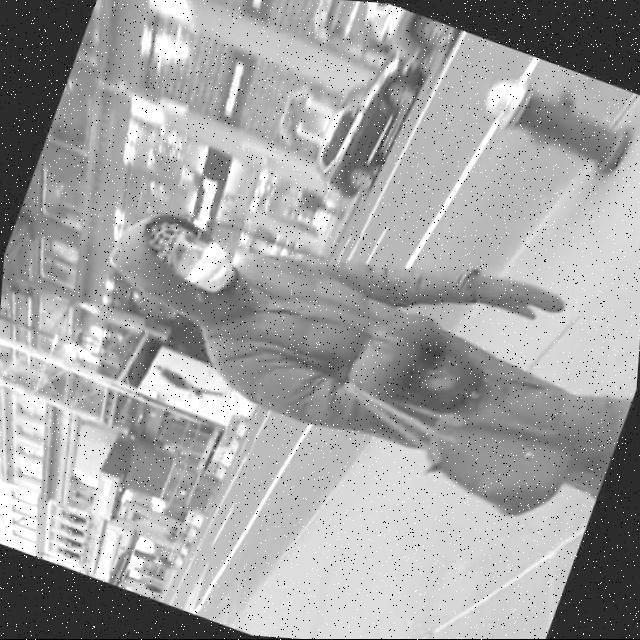apron: (443, 268, 585, 318), (357, 316, 443, 354)
mask: (193, 246, 231, 292)
